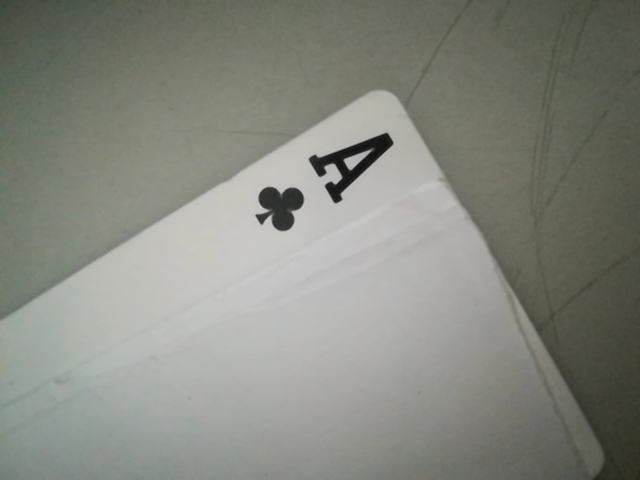mh a: (232, 125, 412, 238)
